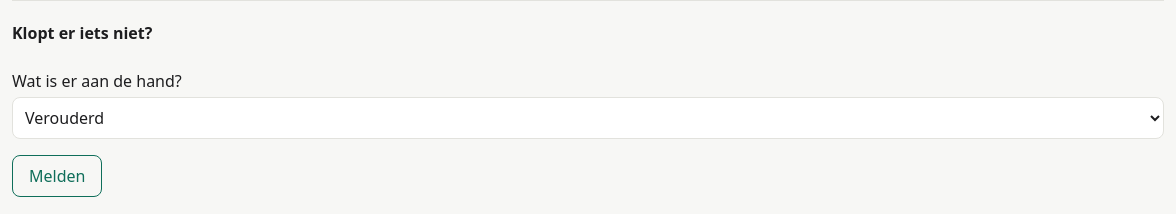
Test: knowledge components › submits a report and thanks the user
Select "Link werkt niet" in the dropdown at (588, 118), box [12, 97, 1164, 139]
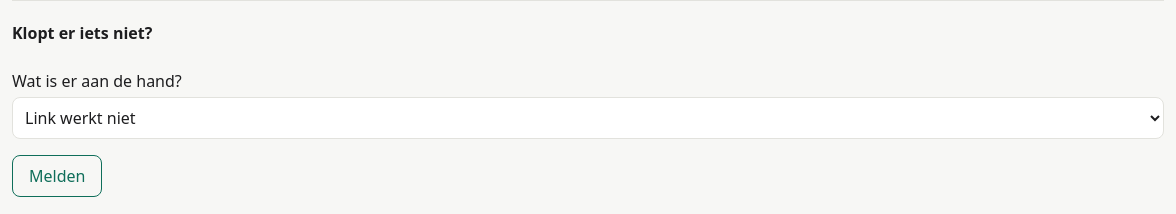
Click the button "Melden" at (57, 176), box [12, 155, 102, 197]
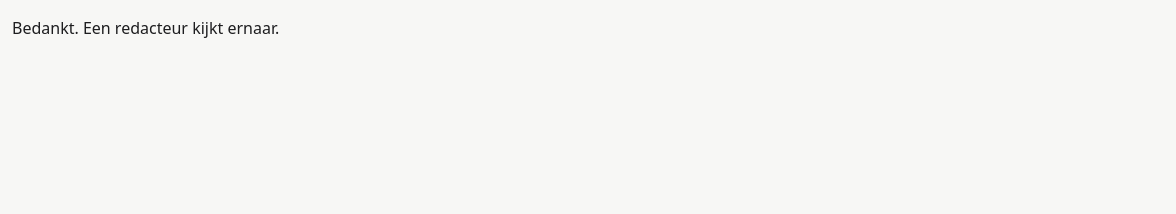
expect the message "Bedankt. Een redacteur kijkt ernaar." is shown: met, box [12, 17, 279, 39]
